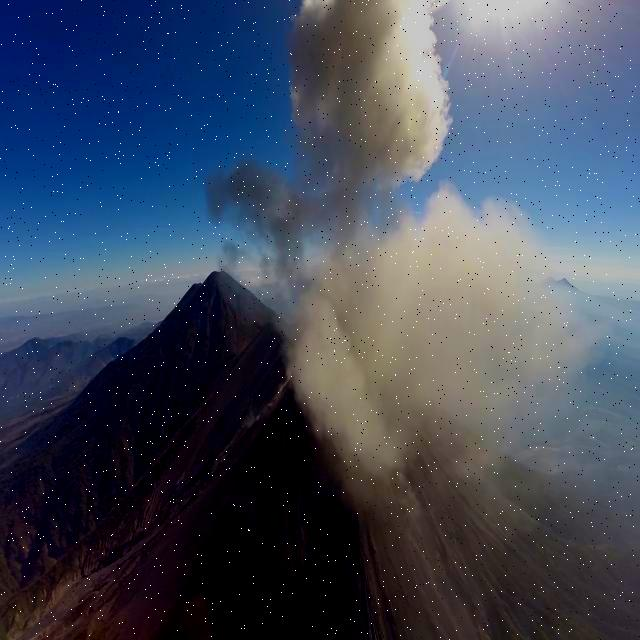Plume: (270, 164, 602, 498), (286, 2, 460, 252)
